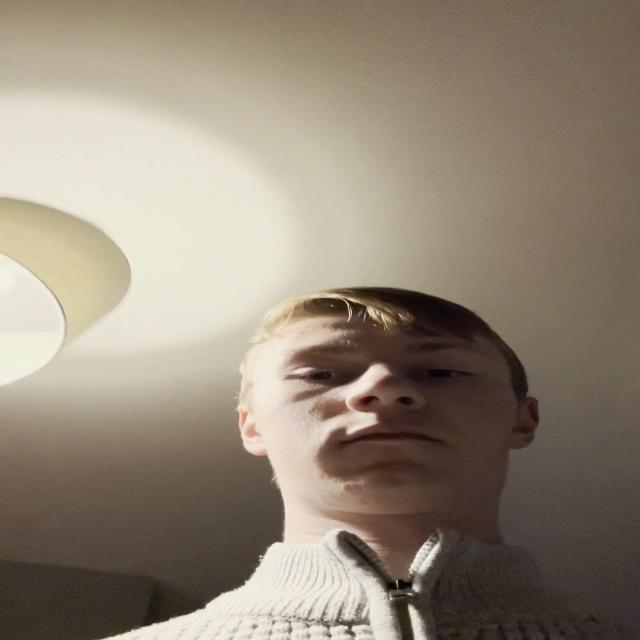no-helmet: (241, 294, 538, 544)
